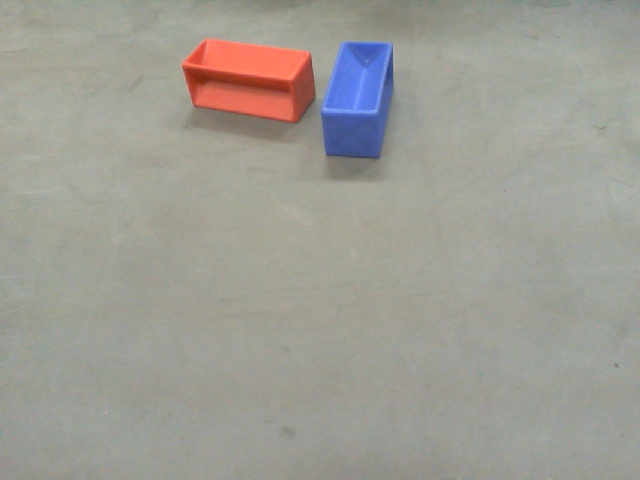BlueSample: (319, 37, 400, 163)
RedSample: (180, 37, 317, 123)
